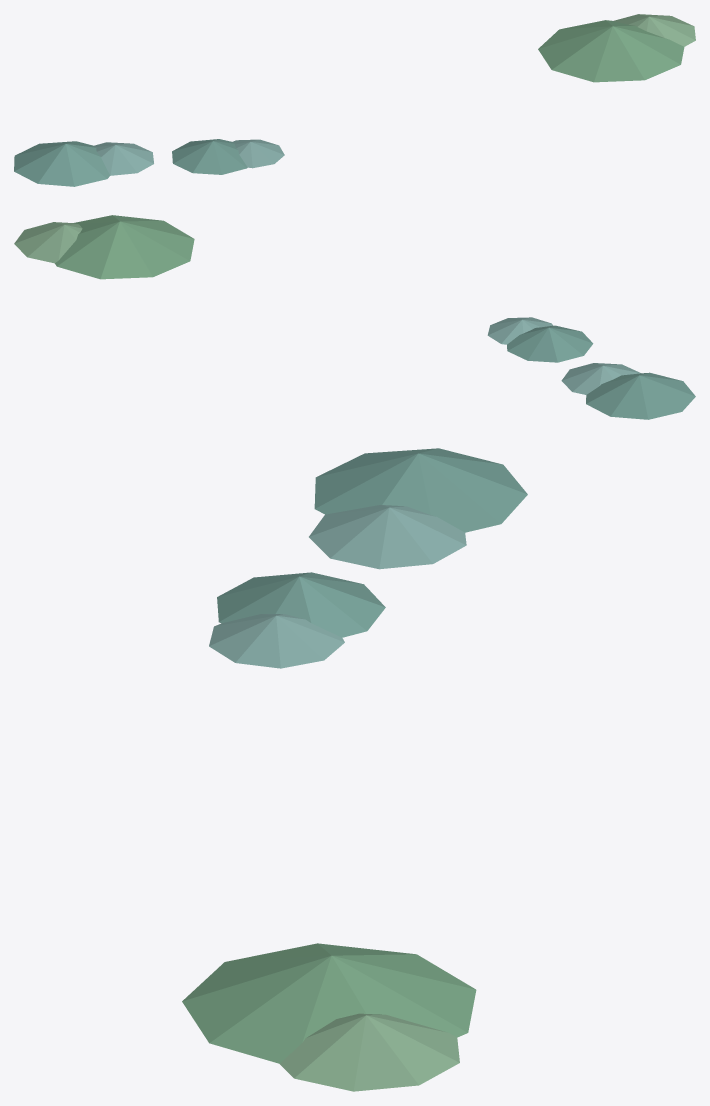
The model's file is DistantIslands.fbx.
The picture shows the model from 3 angles, top to bottom: view 1: azimuth 30°, elevation 25°; view 2: azimuth 150°, elevation 25°; view 3: azimuth 270°, elevation 25°; orthographic projection. The views are drawn at different scales.
Visible parts, largest first — view 1: Island_C, Island_B, Island_A; view 2: Island_C, Island_B, Island_A; view 3: Island_C, Island_B, Island_A.
Boxes of the visible parts, x1=… form: Island_C: x1=538, y1=14, x2=695, y2=82; Island_B: x1=14, y1=141, x2=153, y2=186; Island_A: x1=172, y1=139, x2=284, y2=174; Island_C: x1=14, y1=215, x2=194, y2=279; Island_B: x1=561, y1=363, x2=695, y2=419; Island_A: x1=487, y1=317, x2=593, y2=362; Island_C: x1=182, y1=943, x2=476, y2=1091; Island_B: x1=309, y1=448, x2=527, y2=569; Island_A: x1=209, y1=572, x2=385, y2=668.
Size of the model in its own units: 1317598 by 48600 by 299575.
